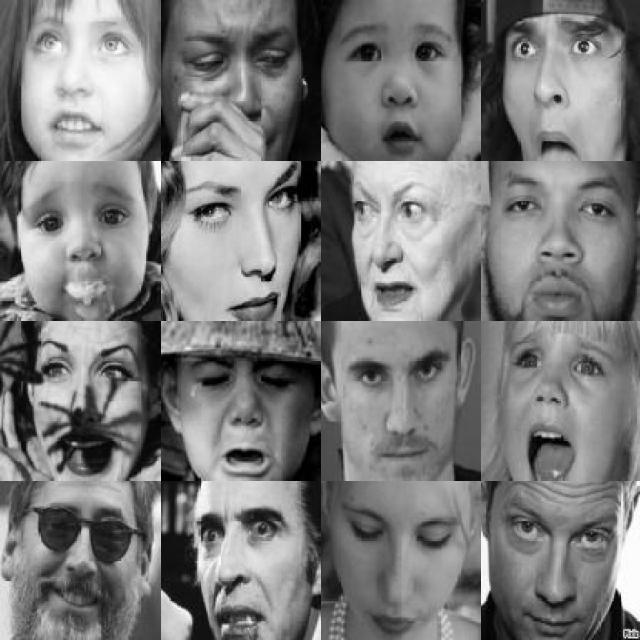anger: (174, 165, 305, 316), (189, 495, 293, 639), (342, 341, 456, 472)
fear: (502, 8, 624, 157), (498, 329, 620, 477), (29, 332, 149, 475), (346, 170, 448, 318)
happy: (23, 491, 143, 640)
neutral: (326, 8, 458, 157), (495, 166, 626, 314), (498, 487, 613, 640), (21, 10, 143, 153)
sad: (335, 491, 459, 640), (172, 16, 303, 156), (21, 178, 143, 310), (187, 349, 303, 477)
